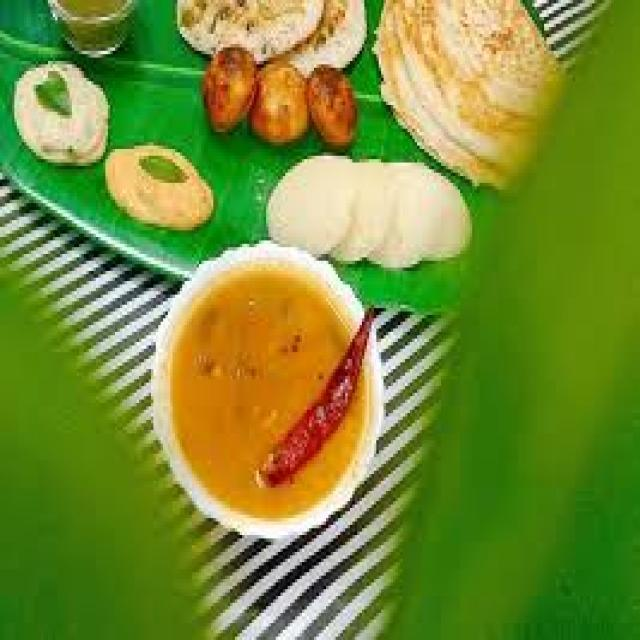chutney: (6, 58, 115, 173)
dosa: (373, 0, 587, 174)
idly: (263, 146, 492, 272)
pickle: (105, 137, 214, 236)
sambar-rasam: (163, 249, 388, 514)
